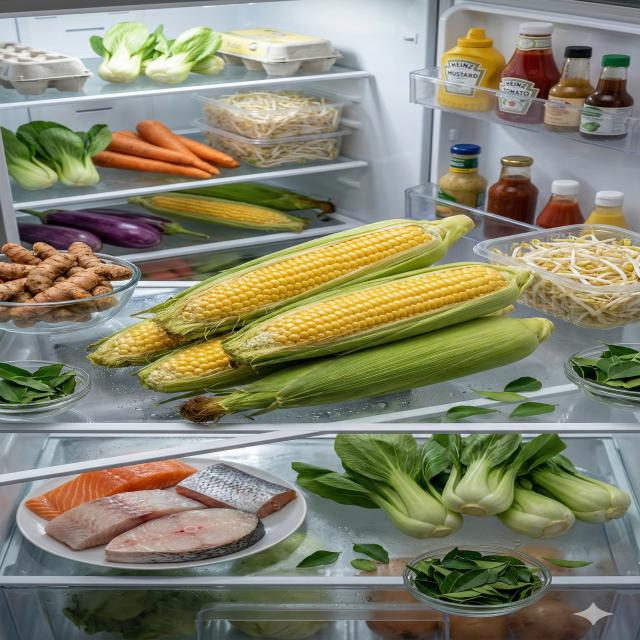bean_sprouts: (491, 225, 640, 328), (205, 89, 340, 168)
carrot: (92, 120, 242, 179)
corn: (84, 214, 555, 426), (126, 182, 336, 234)
curry_leaves: (405, 547, 547, 606), (568, 340, 640, 409), (0, 362, 83, 416), (350, 542, 390, 572)
egg: (216, 28, 344, 76), (0, 41, 95, 96)
eggplant: (17, 209, 211, 253)
fish: (24, 459, 298, 563)
pakchoy: (292, 434, 632, 540), (89, 21, 227, 84), (0, 120, 113, 190)
turmeric: (0, 242, 133, 328)
